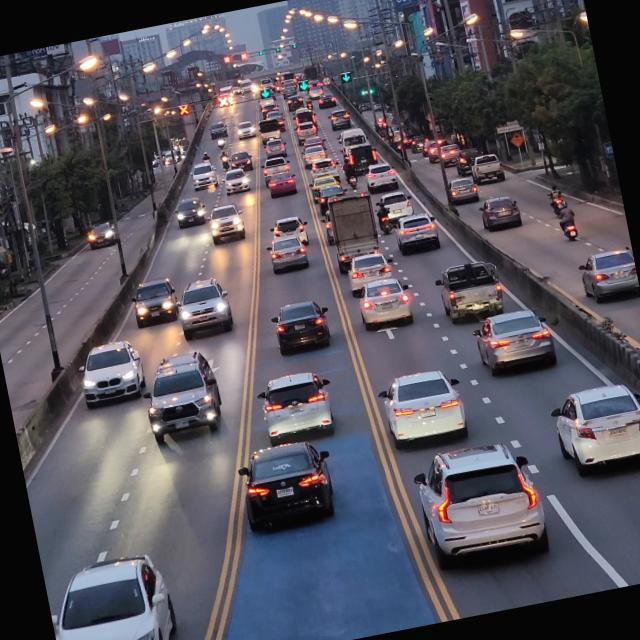Vehicle: (404, 436, 552, 570), (42, 544, 187, 640), (234, 436, 340, 536), (545, 380, 640, 479), (138, 349, 228, 449), (248, 364, 341, 450), (380, 367, 470, 451), (468, 305, 560, 383), (70, 337, 149, 413), (320, 188, 384, 276), (430, 255, 508, 324), (167, 274, 236, 342), (348, 274, 419, 336), (576, 244, 640, 307), (338, 248, 400, 303), (126, 272, 180, 330), (392, 208, 446, 260), (474, 190, 528, 237), (202, 201, 246, 248), (373, 186, 419, 226), (170, 192, 207, 234), (440, 174, 485, 208), (216, 165, 253, 198)
